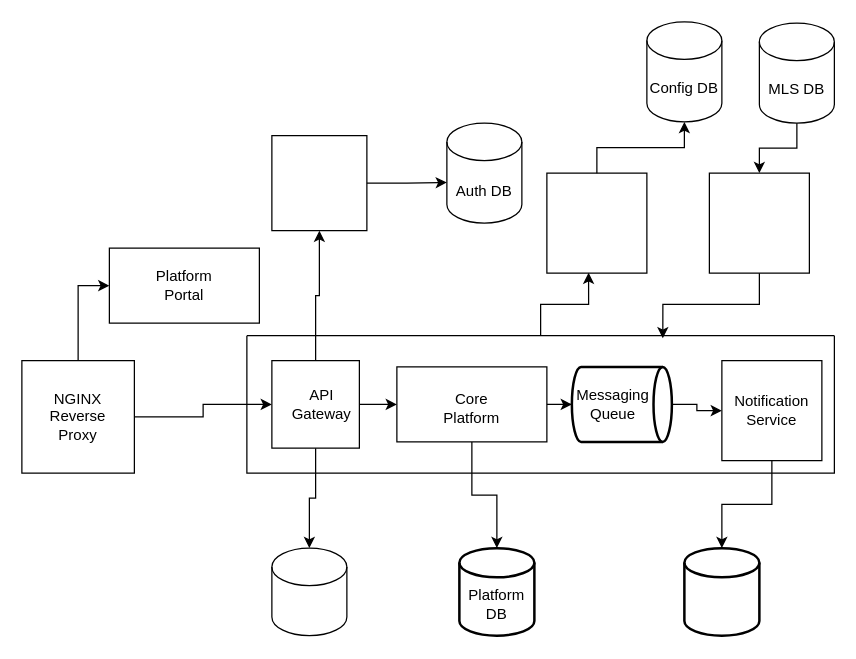
Some shapes in this 856 by 659 pixel diagram are drawn without their labels. The centre of each missing label's shape, as x and y in pixels:
"Config Service" belongs at [596,222].
"Gateway DB" belongs at [309,591].
"MLS Service" belongs at [758,222].
"Notification DB" belongs at [721,591].
"OAuth Server" belongs at [319,182].
